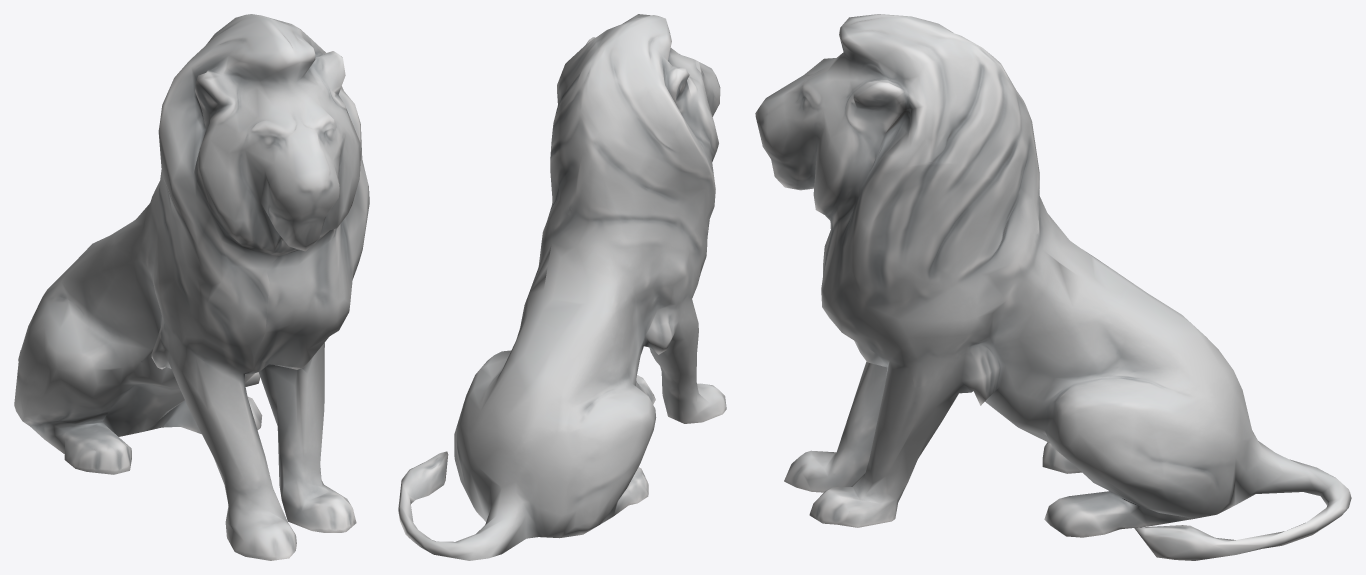
Rendered from ParkStatueLion01.FBX.
3 renders of one model, left to right at view 1: azimuth 30°, elevation 25°; view 2: azimuth 150°, elevation 25°; view 3: azimuth 270°, elevation 25°, orthographic. The views are drawn at different scales.
Parts seen in each view (by area): view 1: ParkStatueLion01; view 2: ParkStatueLion01; view 3: ParkStatueLion01.
Boxes of the visible parts, left/top/right/bottom form: ParkStatueLion01: left=14, top=14, right=369, bottom=560; ParkStatueLion01: left=398, top=14, right=726, bottom=560; ParkStatueLion01: left=755, top=14, right=1351, bottom=560.
Size of what is drawn, in the model's own units: 1.27 by 2.38 by 2.65.
